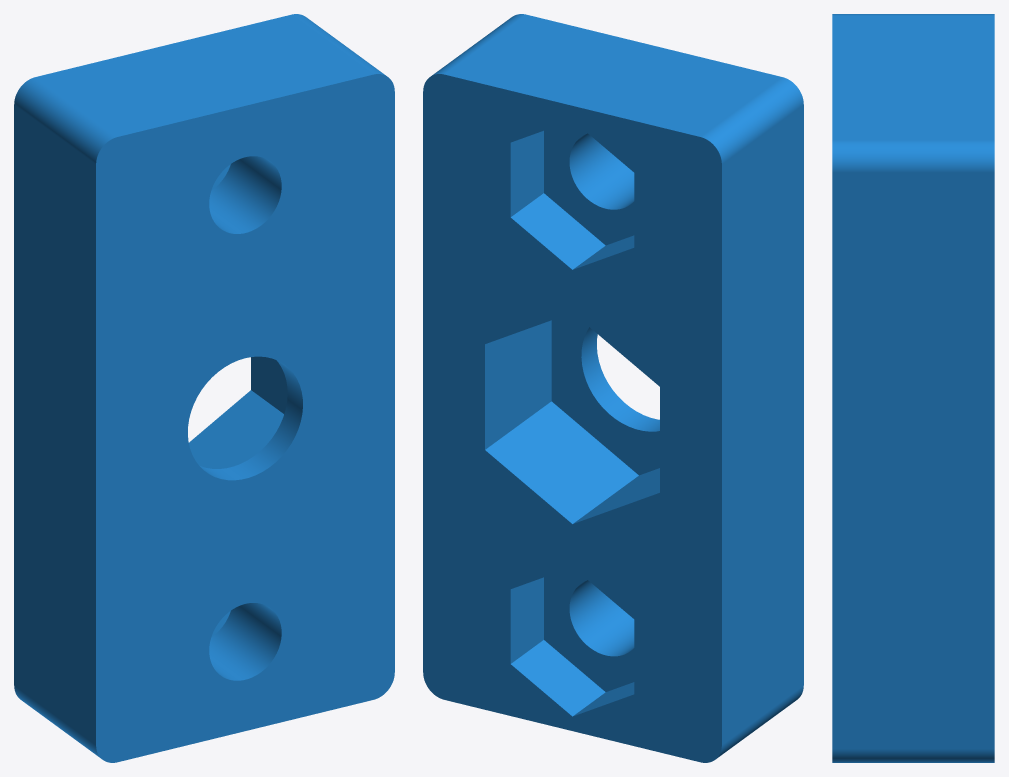
Rendered from eixo_deslizador.glb.
3 views of the same model, side by side, from view 1: azimuth 30°, elevation 25°; view 2: azimuth 150°, elevation 25°; view 3: azimuth 270°, elevation 25° (orthographic).
Parts seen in each view (by area): view 1: eixo_deslizador; view 2: eixo_deslizador; view 3: eixo_deslizador.
Boxes of the visible parts, <box> form: eixo_deslizador: <box>14,14,394,762</box>; eixo_deslizador: <box>423,14,803,762</box>; eixo_deslizador: <box>832,14,994,762</box>.
Bounding box in the file's own units: 14 × 28 × 6.65.
